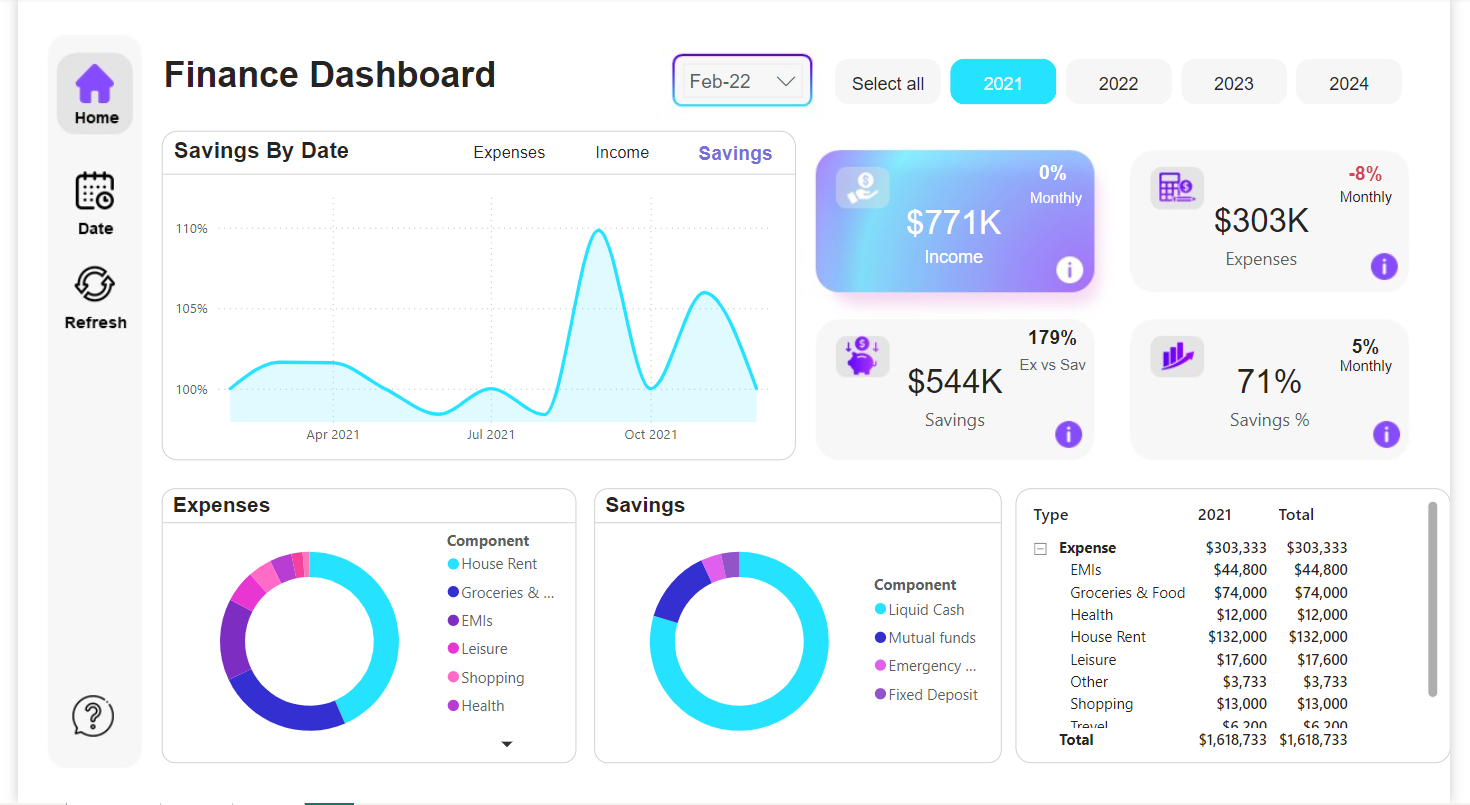

The page's visual inventory and layout, read from the dashboard file:
{"tool":"powerbi","page":{"name":"Page 1","canvas":[1280,720],"ordinal":0},"visuals":[{"type":"card","fields":{"Values":["Dataset.Income"]},"box":[720.9,153.5,229.1,114],"z":0},{"type":"card","fields":{"Values":["Dataset.Savings"]},"box":[691.9,294.2,289.5,120.9],"z":1000},{"type":"card","fields":{"Values":["Dataset.Expenses"]},"box":[979.1,138.4,262.8,144.2],"z":2000},{"type":"card","fields":{"Values":["Dataset.Savings %"]},"box":[990.7,294.2,255.8,120.9],"z":3000},{"type":"advancedSlicerVisual","fields":{"Values":["Dataset.Yearr"]},"box":[725.2,50.6,518.6,52],"z":4000},{"type":"donutChart","title":"Savings","fields":{"Y":["Dataset.Savings"],"Category":["Dataset.Component"]},"box":[514.8,438.8,364,245.7],"z":5000},{"type":"donutChart","title":"Expenses","fields":{"Y":["Dataset.Expenses"],"Category":["Dataset.Component"]},"box":[128.4,438.8,370.7,245.7],"z":6000},{"type":"pivotTable","fields":{"Values":["Dataset.Total Value"],"Rows":["Dataset.Type","Dataset.Component"],"Columns":["Dataset.Yearr"]},"box":[891.1,438.8,388.6,245.7],"z":7000},{"type":"areaChart","fields":{"Category":["Dataset.Date"],"Y":["Dataset.Line_Chart_Measures"]},"box":[128.4,119.5,566.1,294.8],"z":8000},{"type":"advancedSlicerVisual","fields":{"Values":["Line_Selection_Table.Type"]},"box":[387.9,120.9,306.4,37.9],"z":9000},{"type":"slicer","fields":{"Values":["Selected_Date.Month-Yr"]},"box":[583.7,48.8,126.7,43],"z":10000},{"type":"card","fields":{"Values":["Dataset.Income Monthly Gr"]},"box":[879.8,130.7,89.9,54.8],"z":11000},{"type":"card","fields":{"Values":["Dataset.Savings Monthly Gr"]},"box":[1160.8,285.3,85.7,57.6],"z":12000},{"type":"card","fields":{"Values":["Dataset.Expenses Monthly Gr"]},"box":[1160.8,127.9,85.7,60.4],"z":13000},{"type":"card","fields":{"Values":["Dataset.Ex vs Sav"]},"box":[878.4,285.3,91.3,57.6],"z":14000},{"type":"textbox","box":[125.1,46.9,350.6,50.2],"z":15000},{"type":"textbox","box":[1175.8,164.1,80.4,30.1],"z":16000},{"type":"textbox","box":[898.9,165.3,80.4,30.1],"z":17000},{"type":"textbox","box":[1175.8,314.9,80.4,30.1],"z":18000},{"type":"actionButton","box":[39,148.9,62.2,47.7],"z":19000},{"type":"actionButton","box":[39,232.8,62.2,47.7],"z":21000}]}

Visuals, with their boxes on the page's 1280x720 design canvas (x1, y1, x2, y2). These are canvas units, not pixel positions in the 1470x805 screenshot, which may show the page scaled, cropped or inside an application window:
card - Dataset.Income: 721/154/950/268
card - Dataset.Savings: 692/294/981/415
card - Dataset.Expenses: 979/138/1242/283
card - Dataset.Savings %: 991/294/1246/415
advancedSlicerVisual - Dataset.Yearr: 725/51/1244/103
"Savings" donutChart: 515/439/879/684
"Expenses" donutChart: 128/439/499/684
pivotTable - Dataset.Total Value x Dataset.Type: 891/439/1280/684
areaChart - Dataset.Date x Dataset.Line_Chart_Measures: 128/120/694/414
advancedSlicerVisual - Line_Selection_Table.Type: 388/121/694/159
slicer - Selected_Date.Month-Yr: 584/49/710/92
card - Dataset.Income Monthly Gr: 880/131/970/186
card - Dataset.Savings Monthly Gr: 1161/285/1246/343
card - Dataset.Expenses Monthly Gr: 1161/128/1246/188
card - Dataset.Ex vs Sav: 878/285/970/343
textbox: 125/47/476/97
textbox: 1176/164/1256/194
textbox: 899/165/979/195
textbox: 1176/315/1256/345
actionButton: 39/149/101/197
actionButton: 39/233/101/280
